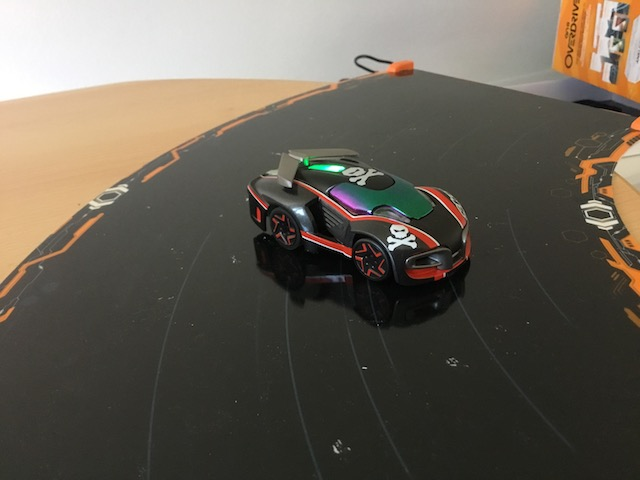car-red: (243, 143, 476, 294)
